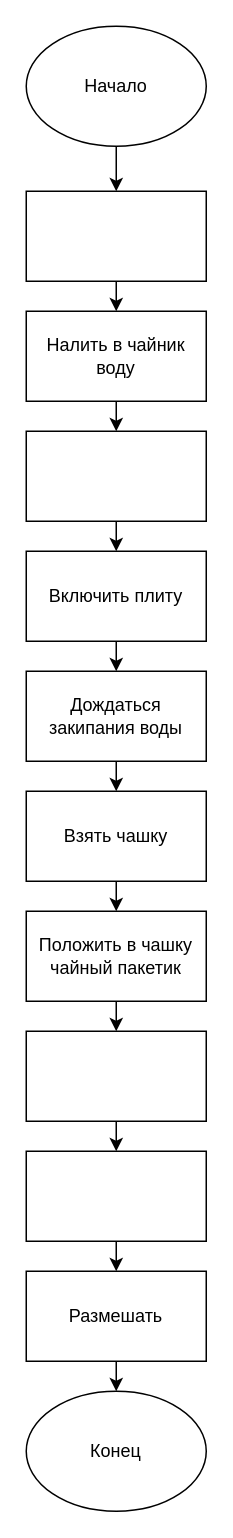
Some shapes in this 233 by 1538 pixel diagram are drawn without their labels. The centre of each missing label's shape, as x and y in pixels:
"Взять чайник" goes at point 115,235.
"Добавит сахар (по желанию)" goes at point 115,1195.
"Налить кипяток в чашку" goes at point 115,1075.
"Поставить чайник на плиту" goes at point 115,475.
